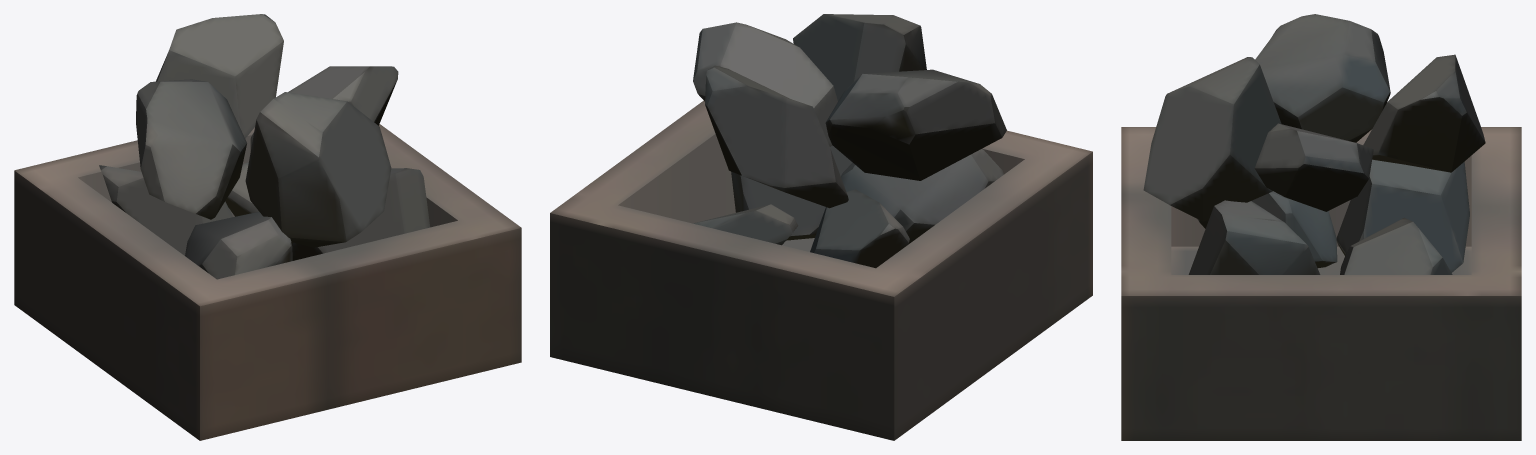
Rendered from Flotsam_Enhance.fbx.
3 views of the same model, side by side, from view 1: azimuth 30°, elevation 25°; view 2: azimuth 150°, elevation 25°; view 3: azimuth 270°, elevation 25° (orthographic). The views are drawn at different scales.
Parts seen in each view (by area): view 1: coal_hako; view 2: coal_hako; view 3: coal_hako.
Boxes of the visible parts, <box> form: coal_hako: <box>14,14,521,440</box>; coal_hako: <box>550,14,1092,440</box>; coal_hako: <box>1121,14,1521,440</box>.
Size of the model in its own units: 1 by 0.7999 by 1.
1 material, 1 textured.
